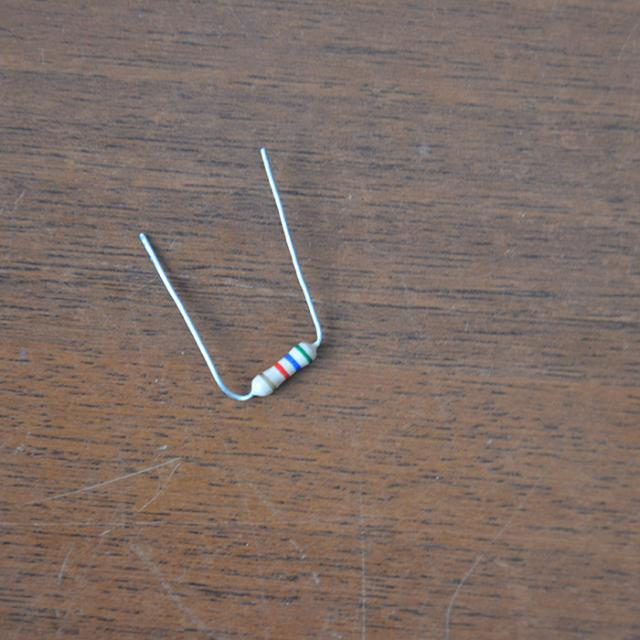blue: (285, 353, 300, 369)
gold: (261, 371, 276, 389)
green: (294, 345, 311, 360)
red: (273, 362, 289, 377)
